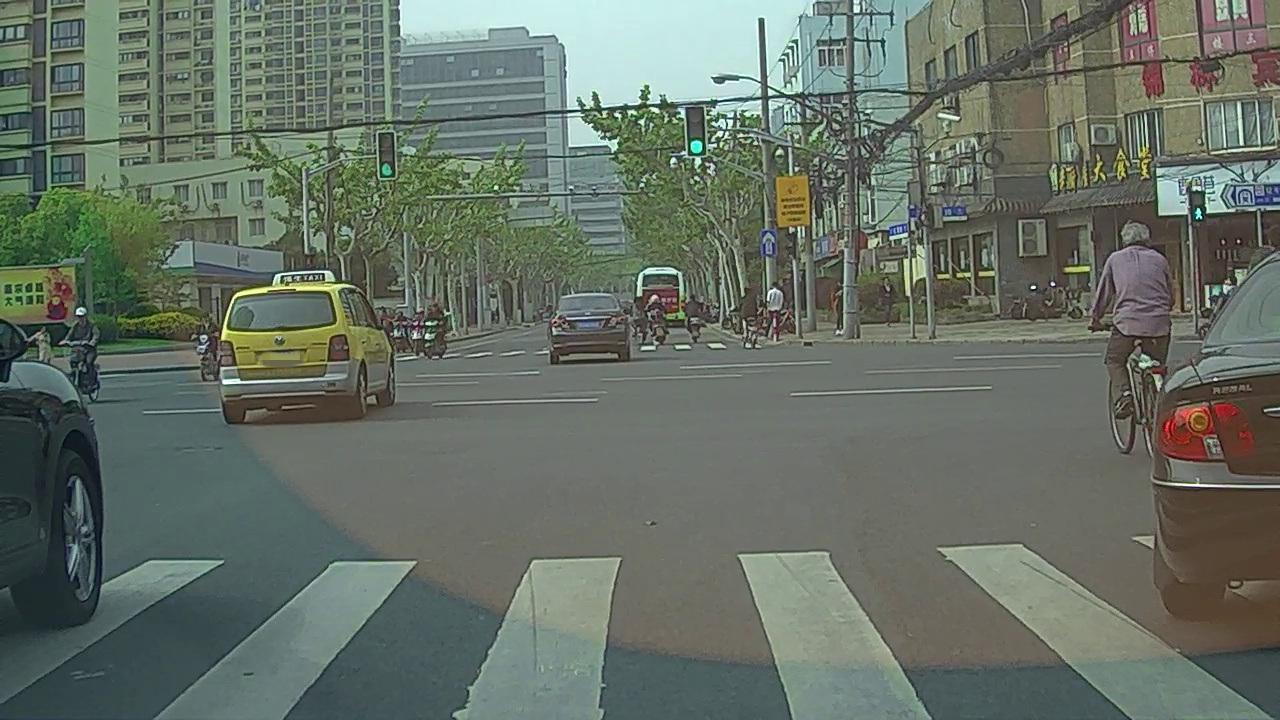traffic_light: (688, 107, 706, 157), (379, 132, 397, 179)
